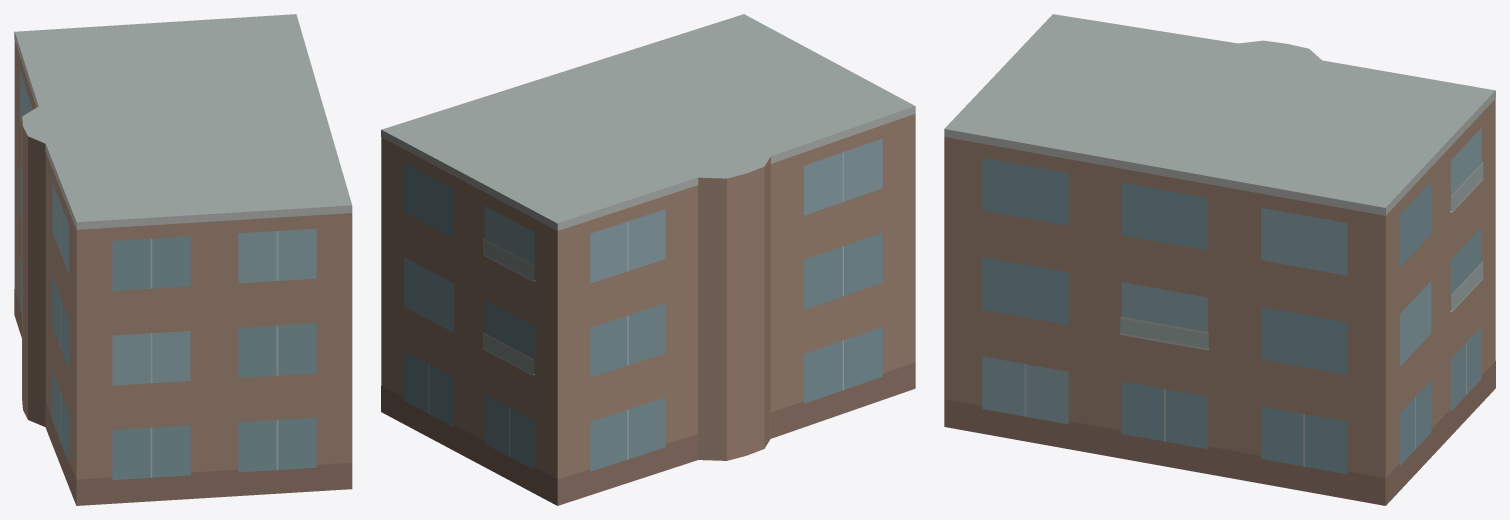
Rendered from survey-upis-32744935.glb.
3 renders of one model, left to right at view 1: azimuth 30°, elevation 25°; view 2: azimuth 150°, elevation 25°; view 3: azimuth 270°, elevation 25°, orthographic. The views are drawn at different scales.
Parts seen in each view (by area): view 1: survey-upis-32744935.tmp; view 2: survey-upis-32744935.tmp; view 3: survey-upis-32744935.tmp.
Part boxes in pixels (bbox=[...]): survey-upis-32744935.tmp: bbox=[14, 14, 352, 505]; survey-upis-32744935.tmp: bbox=[381, 14, 915, 505]; survey-upis-32744935.tmp: bbox=[944, 14, 1495, 505].
Bounding box in the file's own units: 12.79 × 9.15 × 15.36.
